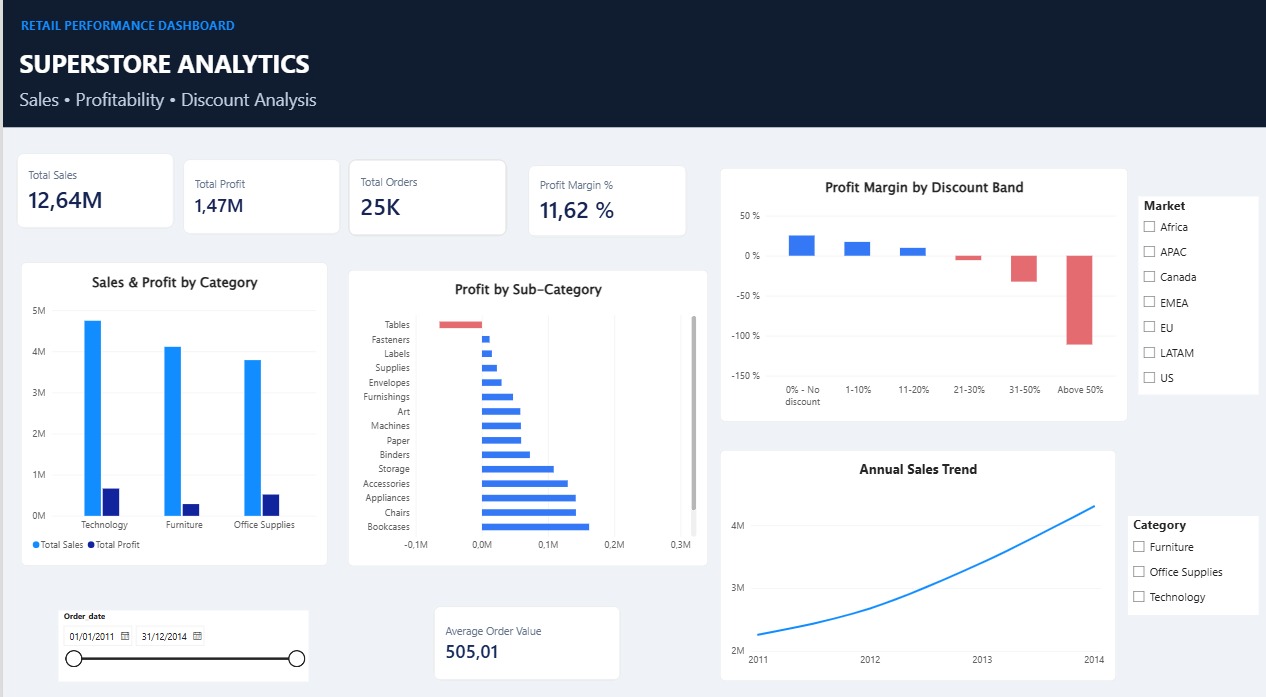

Layout of this report page (visuals, bound fields, positions):
{"tool":"powerbi","page":{"name":"Page 1","canvas":[1920,1080],"ordinal":0},"visuals":[{"type":"shape","box":[0,7.3,1919.5,195.1],"z":0},{"type":"cardVisual","fields":{"Data":["Superstore Sales.Total Sales"]},"box":[20.5,240.9,239,114.6],"z":1000},{"type":"cardVisual","fields":{"Data":["Superstore Sales.Total Profit"]},"box":[272.7,250,239,114.6],"z":2000},{"type":"cardVisual","fields":{"Data":["Superstore Sales.Total Orders"]},"box":[522.7,250,241.5,117.1],"z":3000},{"type":"cardVisual","fields":{"Data":["Superstore Sales.Profit Margin %"]},"box":[795.5,259.1,241.5,109.8],"z":4000},{"type":"clusteredColumnChart","title":"Sales & Profit by Category","fields":{"Category":["Superstore Sales.category"],"Y":["Superstore Sales.Total Sales","Superstore Sales.Total Profit"]},"box":[27.3,406.8,464.9,459.2],"z":5000},{"type":"clusteredBarChart","title":"Profit by Sub-Category","fields":{"Category":["Superstore Sales.sub_category"],"Y":["Superstore Sales.Total Profit"]},"box":[522.7,418.2,545.2,448.4],"z":6000},{"type":"clusteredColumnChart","title":"Profit Margin by Discount Band","fields":{"Category":["Superstore Sales.Discount Band"],"Y":["Superstore Sales.Profit Margin %"]},"box":[1086.4,263.6,618.2,384.1],"z":7000},{"type":"slicer","fields":{"Values":["Superstore Sales.category"]},"box":[1704.5,790.9,197.7,150],"z":8000},{"type":"slicer","fields":{"Values":["Superstore Sales.market"]},"box":[1720.5,306.8,181.8,300],"z":9000},{"type":"slicer","fields":{"Values":["Superstore Sales.order_date"]},"box":[81.8,934.1,379.5,106.8],"z":10000},{"type":"textbox","box":[24.4,80.5,497.6,61],"z":11000},{"type":"textbox","box":[24.4,141.5,526.8,61],"z":12000},{"type":"textbox","box":[26.8,34.1,526.8,61],"z":13000},{"type":"lineChart","title":"Annual Sales Trend","fields":{"Category":["Superstore Sales.order_date.Variation.Hiérarchie de dates.Année","Superstore Sales.order_date.Variation.Hiérarchie de dates.Mois"],"Y":["Superstore Sales.Total Sales"]},"box":[1086.4,690.9,600,350],"z":13001},{"type":"cardVisual","fields":{"Data":["Superstore Sales.Average Order Value"]},"box":[652.3,927.3,284.1,113.6],"z":13002}]}

Visuals, with their boxes in screenshot pixels (x1, y1, x2, y2), scaled from the page's 1920x1080 canvas onto the 1266x697 screenshot:
shape: box(0, 5, 1265, 131)
cardVisual - Superstore Sales.Total Sales: box(14, 155, 171, 229)
cardVisual - Superstore Sales.Total Profit: box(180, 161, 337, 235)
cardVisual - Superstore Sales.Total Orders: box(345, 161, 504, 237)
cardVisual - Superstore Sales.Profit Margin %: box(525, 167, 684, 238)
"Sales & Profit by Category" clusteredColumnChart: box(18, 263, 325, 559)
"Profit by Sub-Category" clusteredBarChart: box(345, 270, 704, 559)
"Profit Margin by Discount Band" clusteredColumnChart: box(716, 170, 1124, 418)
slicer - Superstore Sales.category: box(1124, 510, 1254, 607)
slicer - Superstore Sales.market: box(1134, 198, 1254, 392)
slicer - Superstore Sales.order_date: box(54, 603, 304, 672)
textbox: box(16, 52, 344, 91)
textbox: box(16, 91, 363, 131)
textbox: box(18, 22, 365, 61)
"Annual Sales Trend" lineChart: box(716, 446, 1112, 672)
cardVisual - Superstore Sales.Average Order Value: box(430, 598, 617, 672)
